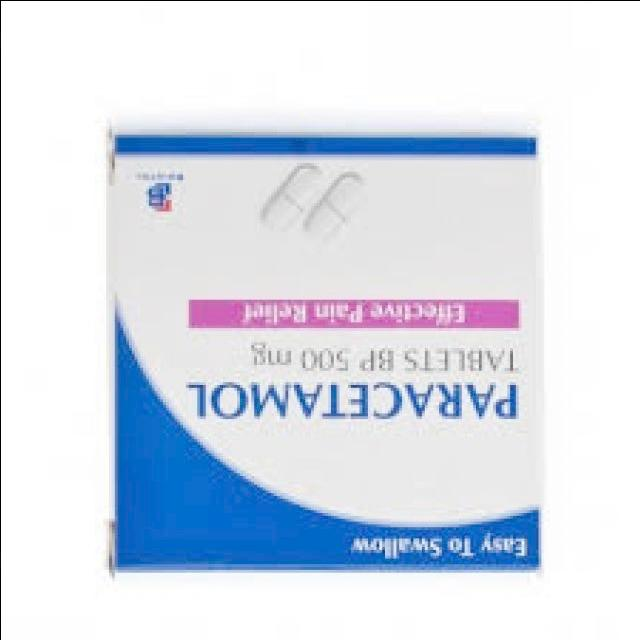authentic: (90, 114, 562, 587)
